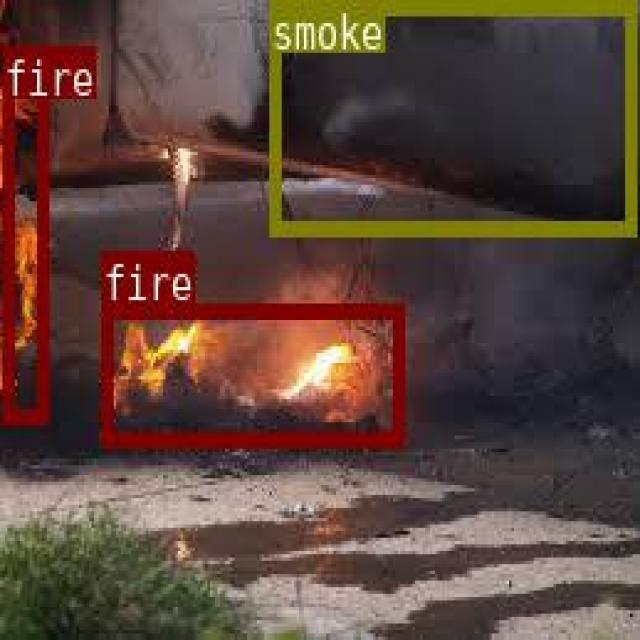fire: (101, 301, 402, 442), (1, 45, 46, 421)
smoke: (269, 0, 635, 231)
